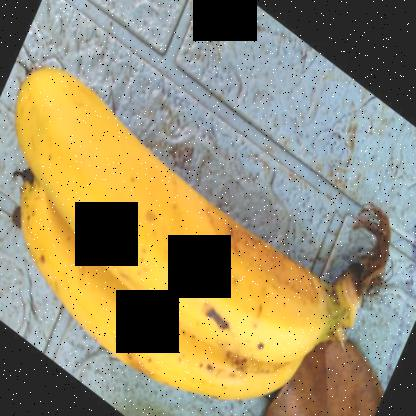ripe: (14, 36, 327, 362)
